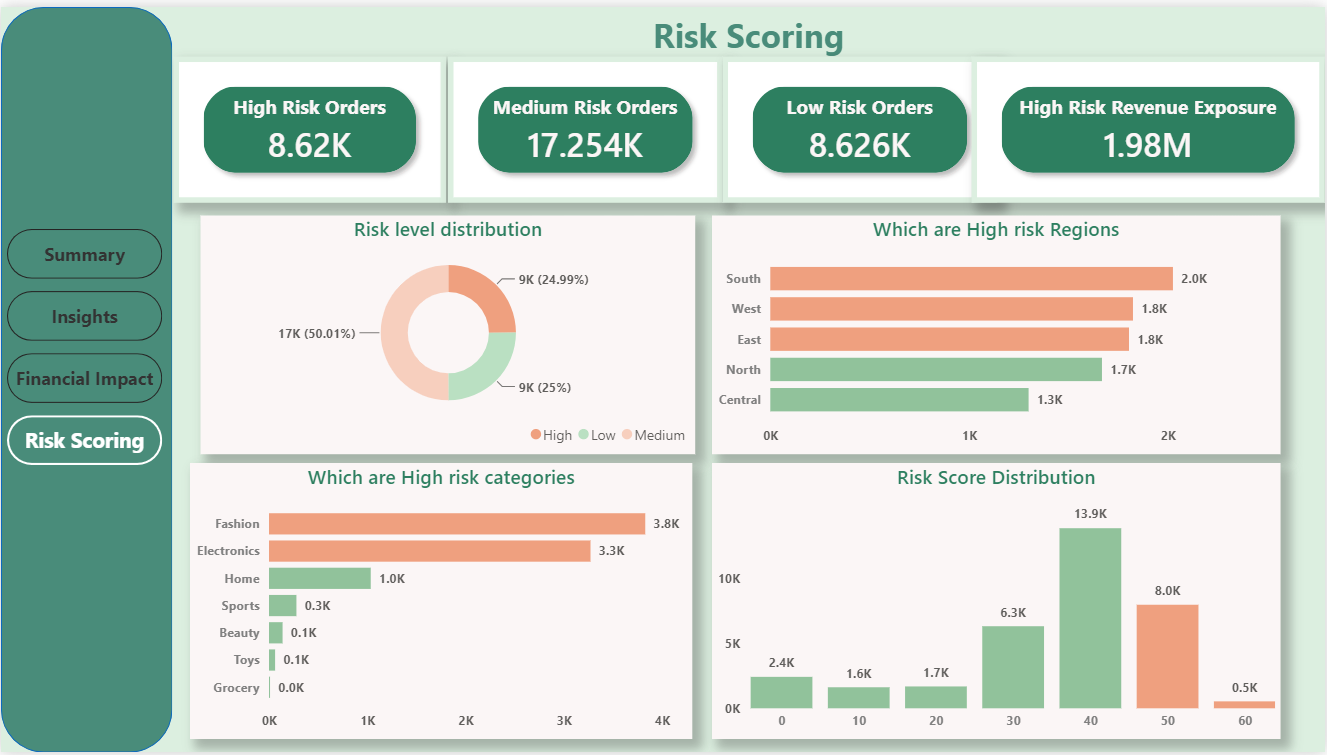

What the dashboard file says about the page in this screenshot:
{"tool":"powerbi","page":{"name":"Risk Scoring","canvas":[1280,720],"ordinal":3},"visuals":[{"type":"shape","box":[0,0,165.6,720.3],"z":0,"group":"g3"},{"type":"textbox","box":[165.1,0,1114.3,52.4],"z":1},{"type":"cardVisual","fields":{"Data":["return_risk_scoring.High Risk Orders"]},"box":[166.7,47.6,263.5,141.3],"z":2},{"type":"cardVisual","fields":{"Data":["return_risk_scoring.Medium Risk Orders"]},"box":[431.7,47.6,265.1,141.3],"z":3},{"type":"cardVisual","fields":{"Data":["return_risk_scoring.Low Risk Orders"]},"box":[696.8,47.6,265.1,141.3],"z":4},{"type":"cardVisual","fields":{"Data":["return_risk_scoring.High Risk Revenue Exposure"]},"box":[938.1,47.6,341.3,141.3],"z":5},{"type":"donutChart","title":"Risk level distribution","fields":{"Category":["return_risk_scoring.risk_level"],"Y":["return_risk_scoring.Total Orders"]},"box":[190.5,195.2,477.8,230.2],"z":6},{"type":"clusteredBarChart","title":"Which are High risk categories","fields":{"Category":["return_risk_scoring.category"],"Y":["CountNonNull(return_risk_scoring.risk_level)"]},"box":[182.5,441.3,495.2,279.4],"z":7},{"type":"clusteredBarChart","title":"Which are High risk Regions","fields":{"Category":["return_risk_scoring.region"],"Y":["CountNonNull(return_risk_scoring.risk_level)"]},"box":[687.3,201.6,549.2,219],"z":8},{"type":"clusteredColumnChart","title":"Risk Score Distribution","fields":{"Category":["return_risk_scoring.risk_score (bins)"],"Y":["return_risk_scoring.Total Orders"]},"box":[696.8,441.3,582.5,279.4],"z":9},{"type":"group","id":"g1","title":"Group 1","box":[0,0,165.6,720.3],"z":10},{"type":"pageNavigator","box":[6.3,214.3,150.8,231.7],"z":8001,"group":"g3"},{"type":"group","id":"g2","title":"Group 2","box":[0,0,165.6,720.3],"z":8003,"group":"g1"},{"type":"group","id":"g3","title":"Group 3","box":[0,0,165.6,720.3],"z":8003,"group":"g2"}]}

Visuals, with their boxes in screenshot pixels (x1, y1, x2, y2), scaled from the page's 1280x720 canvas onto the 1327x755 screenshot:
shape: <box>0,0,172,754</box>
textbox: <box>171,0,1326,55</box>
cardVisual - return_risk_scoring.High Risk Orders: <box>173,50,446,198</box>
cardVisual - return_risk_scoring.Medium Risk Orders: <box>448,50,722,198</box>
cardVisual - return_risk_scoring.Low Risk Orders: <box>722,50,997,198</box>
cardVisual - return_risk_scoring.High Risk Revenue Exposure: <box>973,50,1326,198</box>
"Risk level distribution" donutChart: <box>197,205,693,446</box>
"Which are High risk categories" clusteredBarChart: <box>189,463,703,754</box>
"Which are High risk Regions" clusteredBarChart: <box>713,211,1282,441</box>
"Risk Score Distribution" clusteredColumnChart: <box>722,463,1326,754</box>
"Group 1" group: <box>0,0,172,754</box>
pageNavigator: <box>7,225,163,468</box>
"Group 2" group: <box>0,0,172,754</box>
"Group 3" group: <box>0,0,172,754</box>
